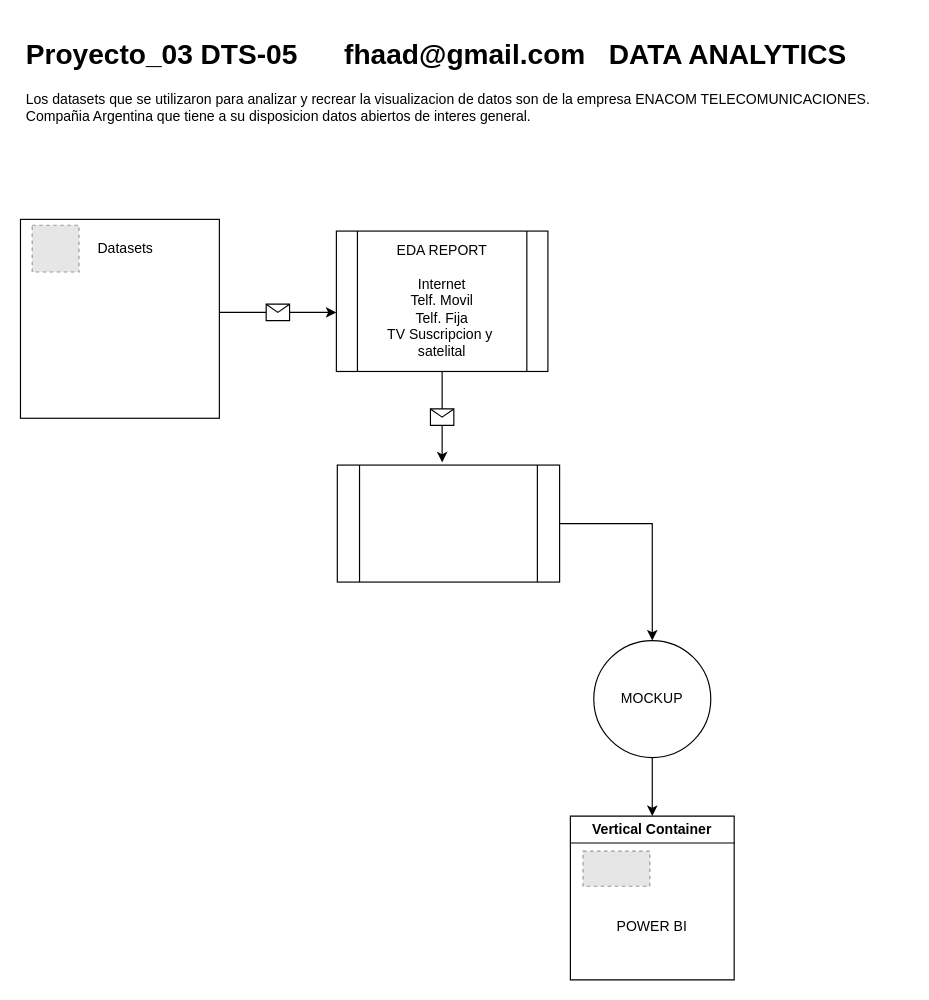
This 929x1000 diagram has some shape labels left out. Grey dashed boxes stand in for pictures. Here are the shapes that lost their labels. From the top down, the box of each, then its label:
(19, 218, 219, 418): Internet Telf. Movil Telf. Fija TV Suscripcion y satelital
(336, 464, 560, 582): ETL - Campos de agregacion - modificacion de campos - cambio en el tipo de datos
